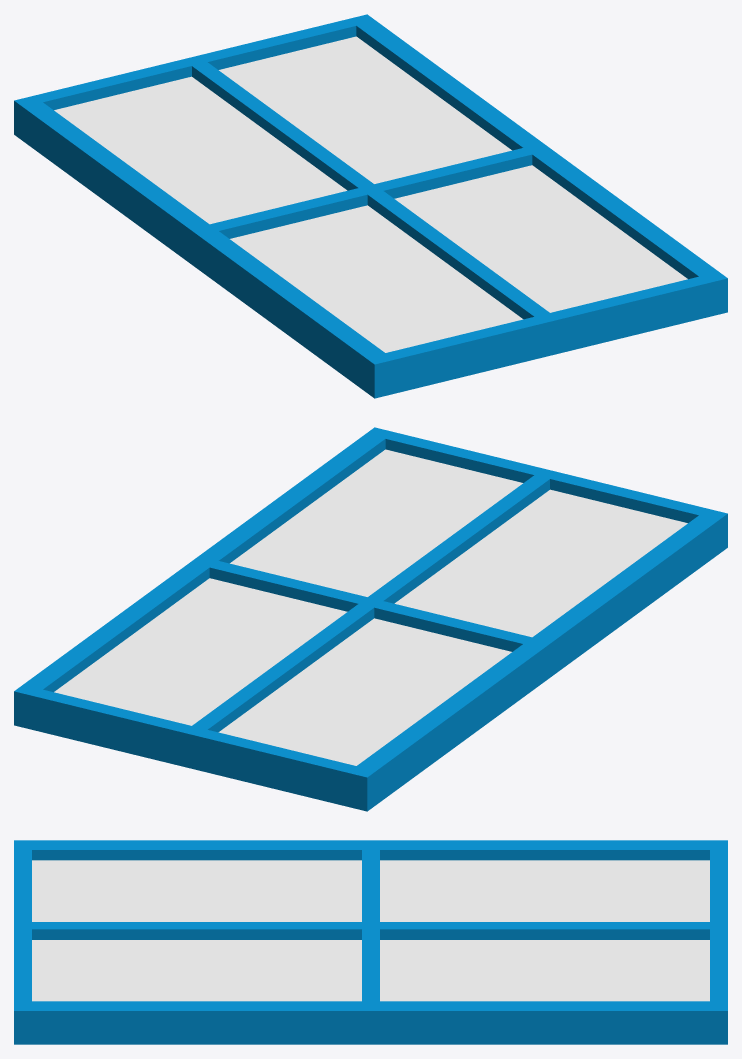
Rendered from 9eedkubZNOO.glb.
3 renders of one model, top to bottom at view 1: azimuth 30°, elevation 25°; view 2: azimuth 150°, elevation 25°; view 3: azimuth 270°, elevation 25°, orthographic.
Parts seen in each view (by area): view 1: polySurface35; view 2: polySurface35; view 3: polySurface35.
Boxes of the visible parts, x1,y1,x2,y2 form: polySurface35: (14,14,727,398); polySurface35: (14,427,727,811); polySurface35: (14,840,727,1044).
Bounding box in the file's own units: 10.84 × 0.999 × 19.17.
